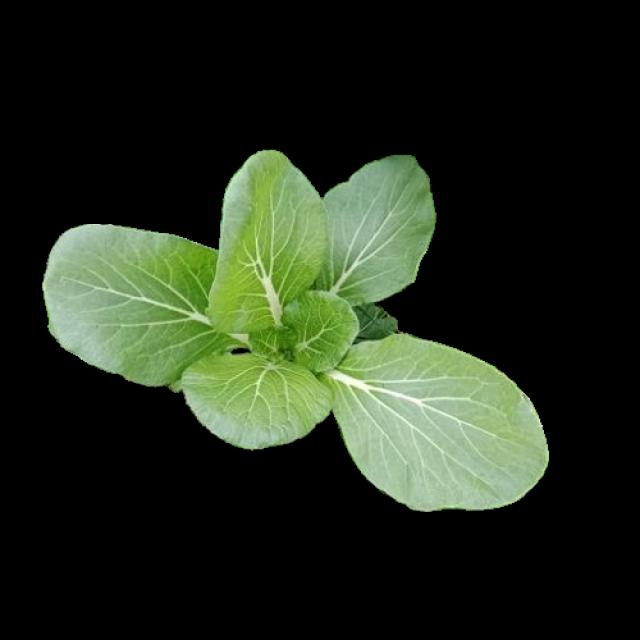healthy: (40, 150, 544, 507)
not-mature: (42, 152, 547, 510)
